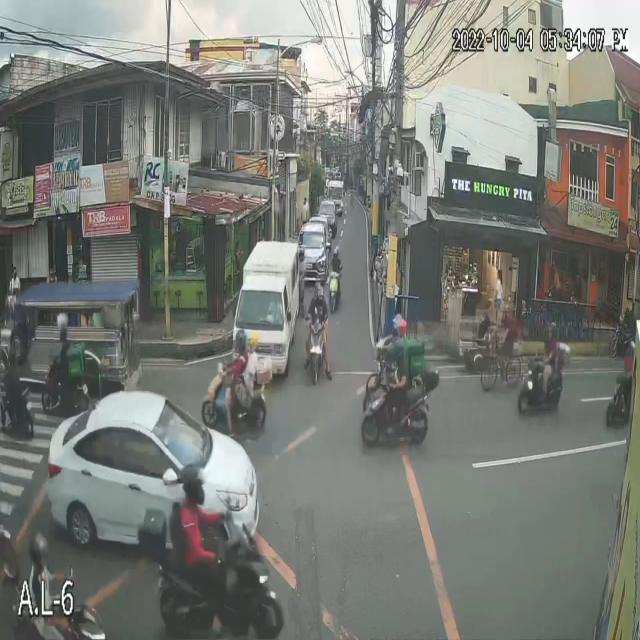Full-Faced: (179, 464, 209, 504), (28, 534, 50, 569), (55, 318, 72, 346), (392, 317, 409, 342), (543, 318, 557, 344), (232, 330, 246, 352), (246, 331, 260, 351), (317, 287, 325, 304)
